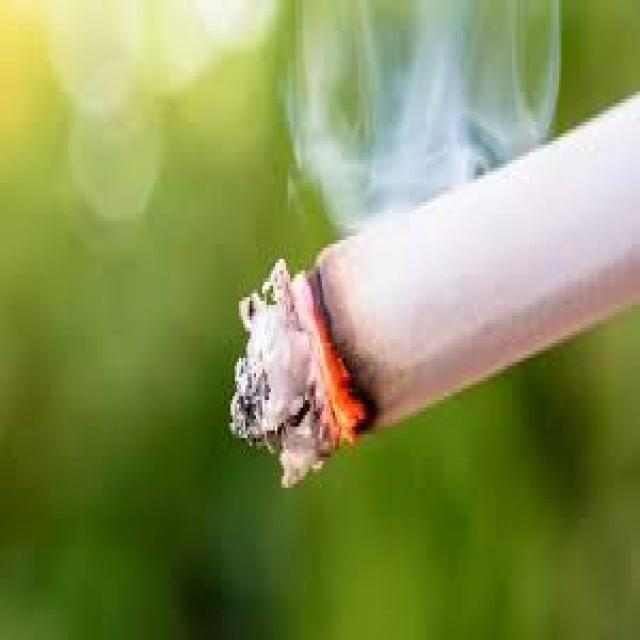Fire: (308, 285, 372, 452)
Smoke: (287, 0, 570, 300)
